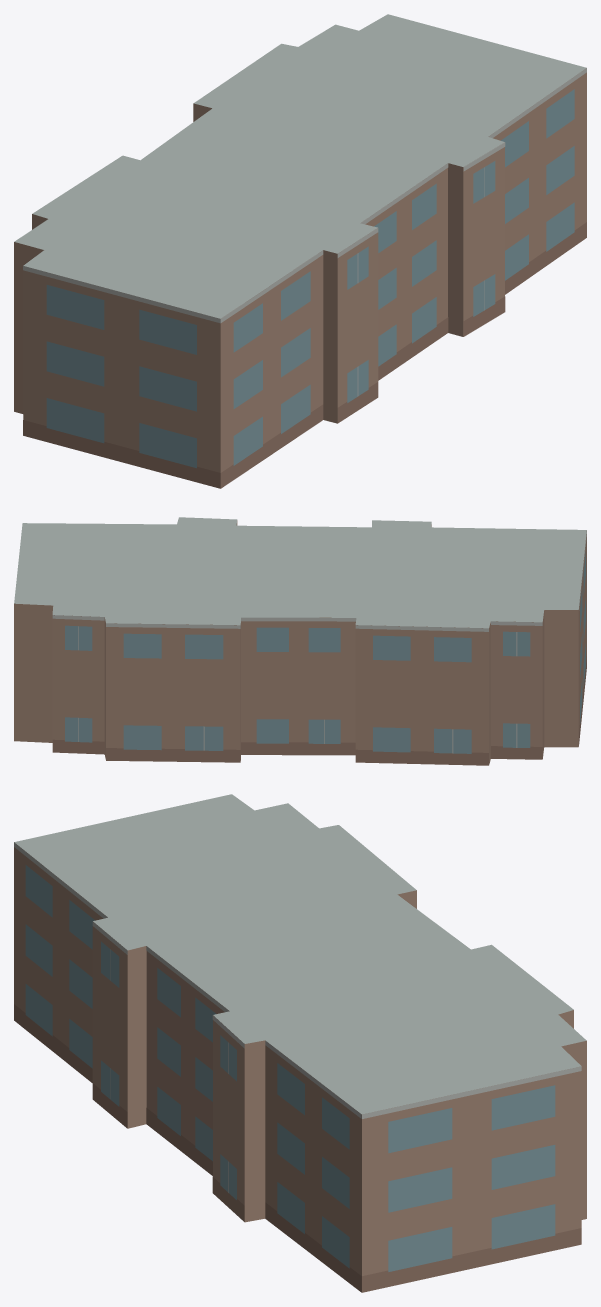
Rendered from survey-upis-33000275.glb.
3 renders of one model, top to bottom at view 1: azimuth 30°, elevation 25°; view 2: azimuth 150°, elevation 25°; view 3: azimuth 270°, elevation 25°, orthographic. The views are drawn at different scales.
Parts seen in each view (by area): view 1: survey-upis-33000275.tmp; view 2: survey-upis-33000275.tmp; view 3: survey-upis-33000275.tmp.
Part boxes in pixels (x1,y1,x2,y2): survey-upis-33000275.tmp: (14, 14, 586, 488); survey-upis-33000275.tmp: (14, 517, 586, 765); survey-upis-33000275.tmp: (14, 794, 586, 1292).
Size of the model in its own units: 35.27 by 9.15 by 26.65.
